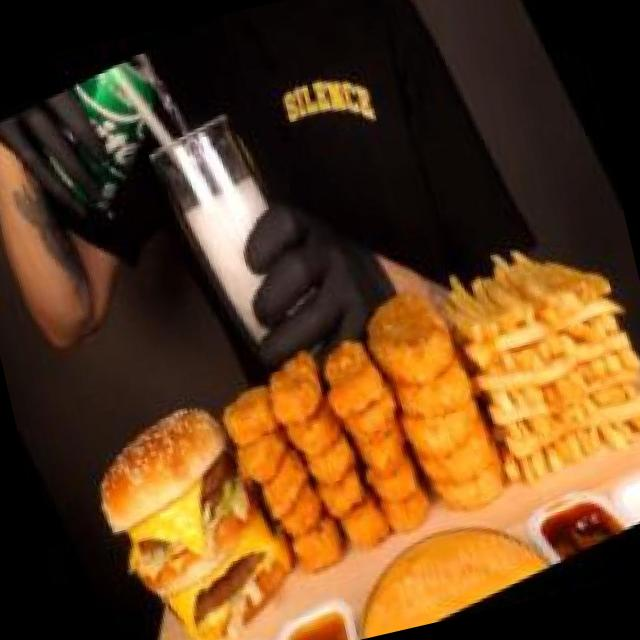Hashbrown: (330, 242, 534, 546)
burger: (58, 365, 318, 640)
french fries: (409, 189, 640, 513)
nugget: (191, 300, 464, 603)
sprite: (63, 26, 260, 261)
